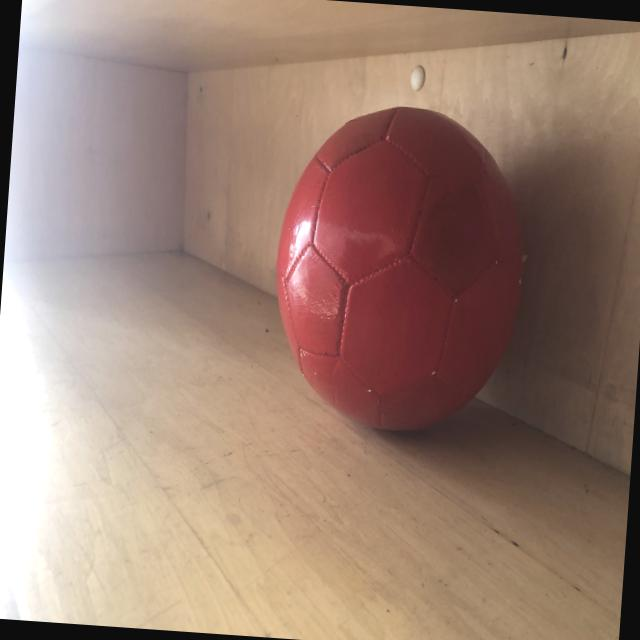red_ball: (266, 97, 536, 440)
